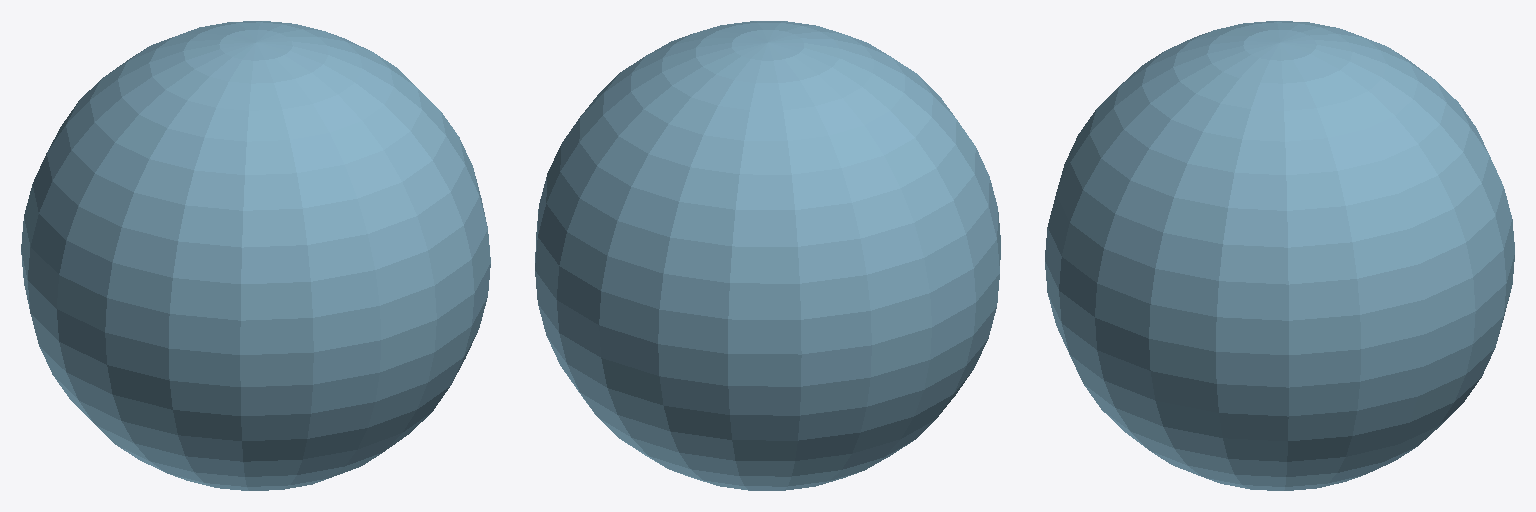
The model's file is sceneRandom.obj.
3 renders of one model, left to right at view 1: azimuth 30°, elevation 25°; view 2: azimuth 150°, elevation 25°; view 3: azimuth 270°, elevation 25°, orthographic.
Parts seen in each view (by area): view 1: group23 sky; view 2: group23 sky; view 3: group23 sky.
Part boxes in pixels (x1,y1,x2,y2): group23 sky: (21,21,490,490); group23 sky: (535,21,1000,490); group23 sky: (1045,21,1514,490).
Size of the model in its own units: 3997 by 4000 by 3997.